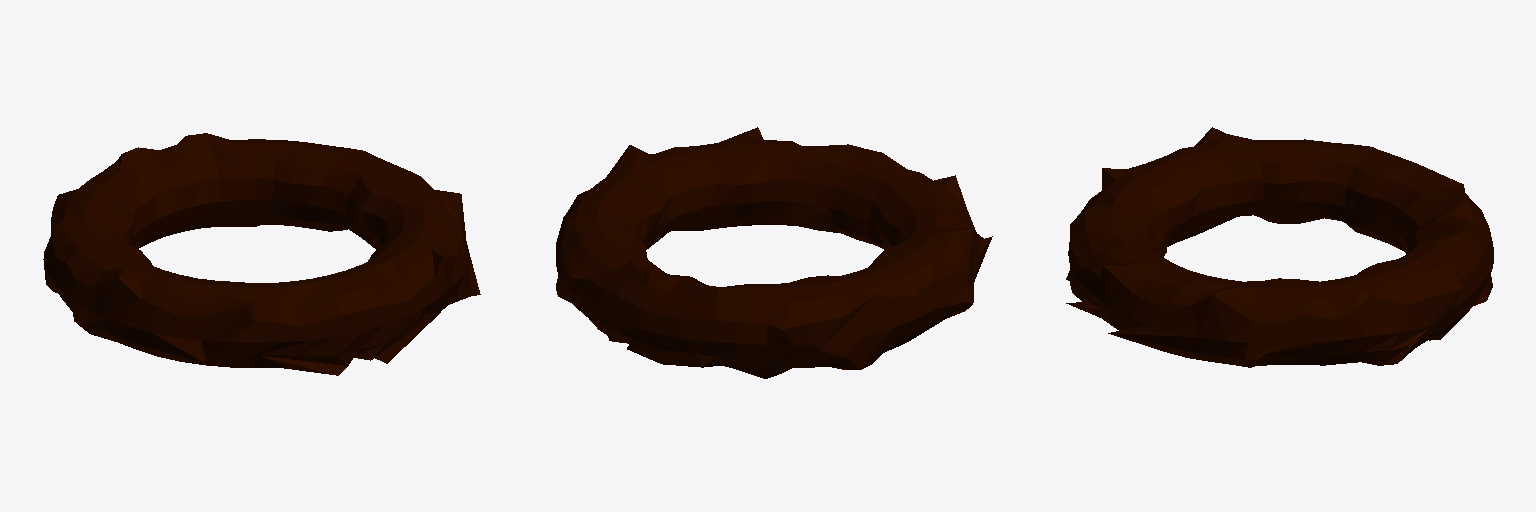
The model's file is Blood_of_the_Martyr.obj.
The picture shows the model from 3 angles: view 1: azimuth 30°, elevation 25°; view 2: azimuth 150°, elevation 25°; view 3: azimuth 270°, elevation 25°; orthographic projection.
Parts seen in each view (by area): view 1: Torus; view 2: Torus; view 3: Torus.
Part boxes in pixels (bbox=[...]): Torus: bbox=[43, 133, 480, 375]; Torus: bbox=[556, 127, 992, 378]; Torus: bbox=[1066, 127, 1493, 367].
Size of the model in its own units: 2.62 by 0.5892 by 2.51.